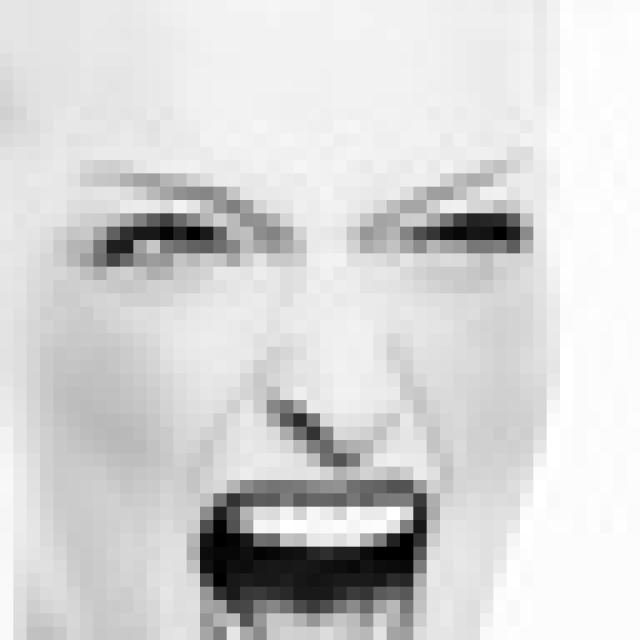angry: (79, 162, 539, 637)
